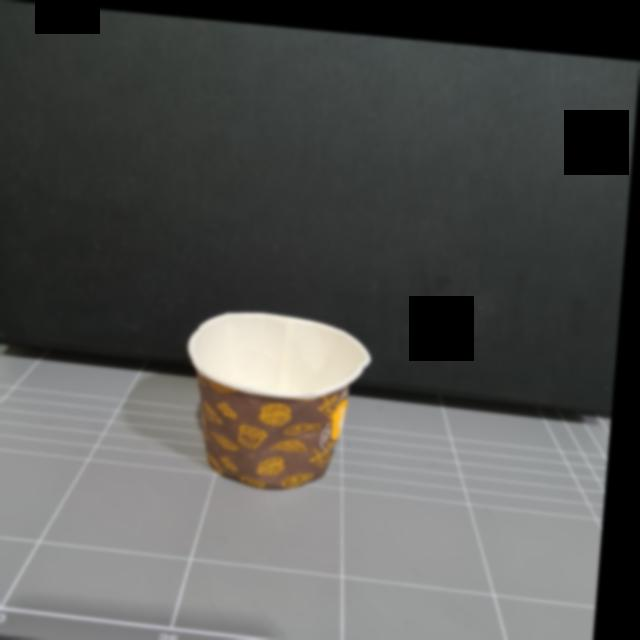cups: (183, 298, 384, 493)
